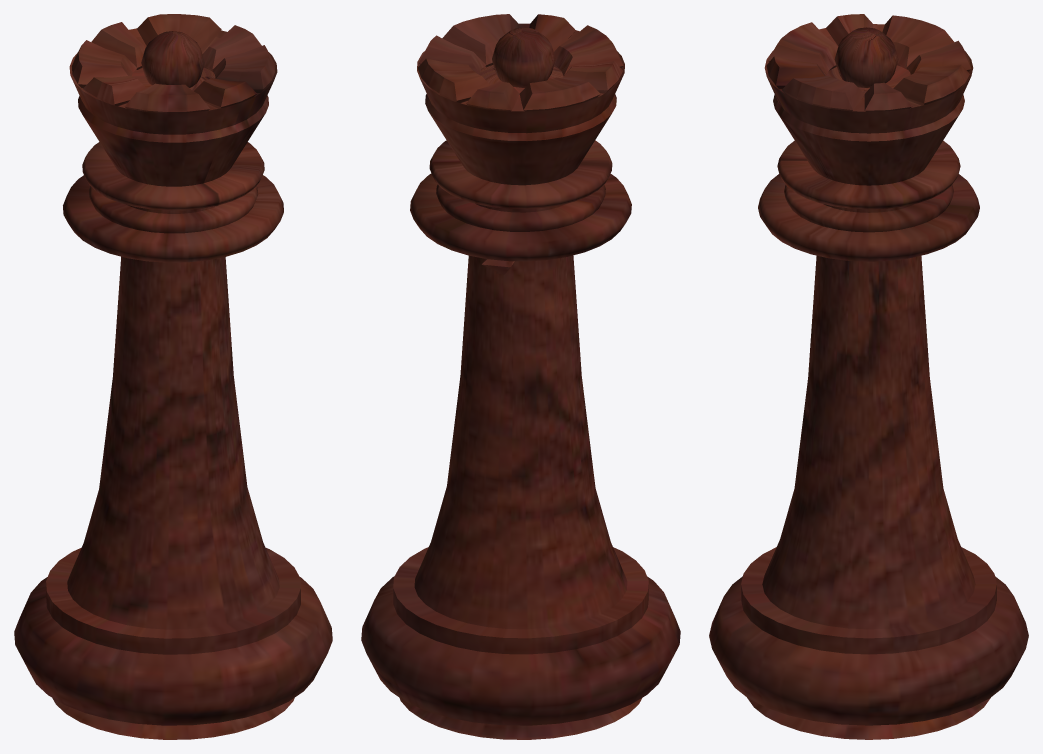
The model's file is BlackQueen.FBX.
3 views of the same model, side by side, from view 1: azimuth 30°, elevation 25°; view 2: azimuth 150°, elevation 25°; view 3: azimuth 270°, elevation 25° (orthographic).
Parts seen in each view (by area): view 1: QueenB; view 2: QueenB; view 3: QueenB.
Part boxes in pixels (x1,y1,x2,y2): QueenB: (14,14,332,739); QueenB: (361,14,680,739); QueenB: (709,14,1028,739).
Bounding box in the file's own units: 0.1843 × 0.1843 × 0.4172.
1 material, 1 textured.
